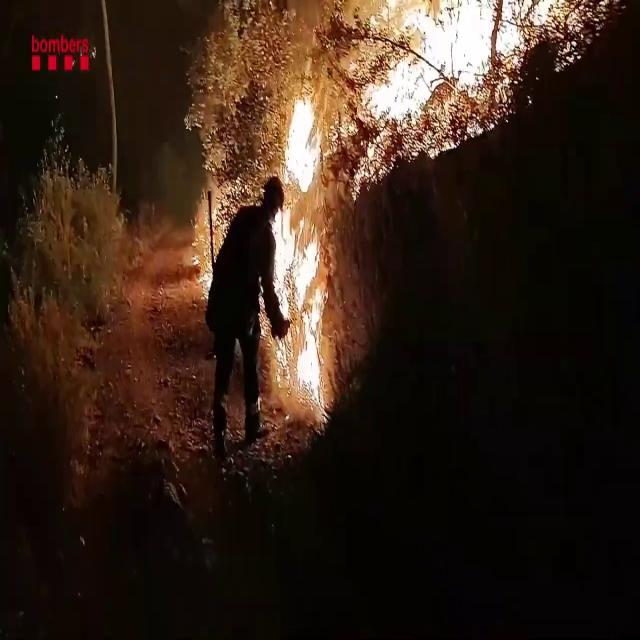Fire: (353, 0, 568, 173), (270, 72, 332, 418)
